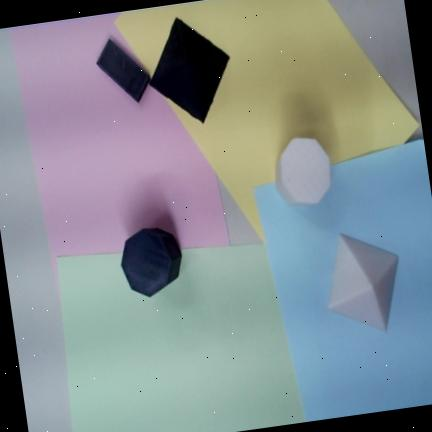Paralelepipedo: (96, 37, 151, 103)
Piramide: (148, 16, 230, 124), (328, 231, 399, 333)
Prisma_hexagonal: (120, 228, 182, 297), (275, 137, 331, 205)
